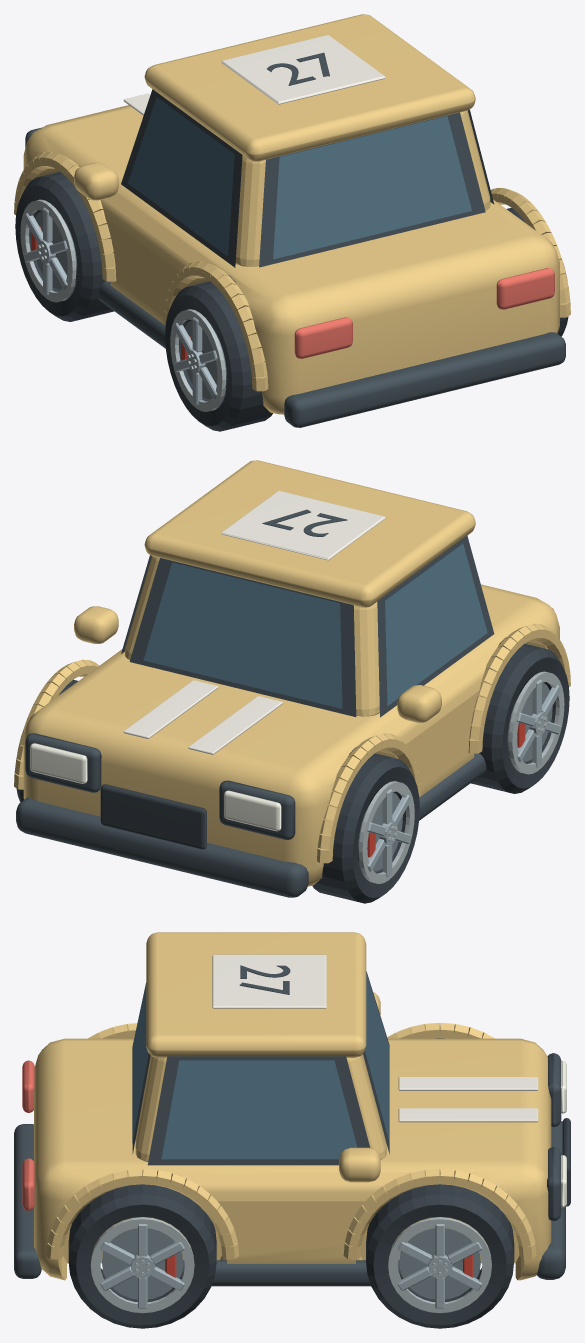
Rendered from car_agile.glb.
The picture shows the model from 3 angles, top to bottom: view 1: azimuth 30°, elevation 25°; view 2: azimuth 150°, elevation 25°; view 3: azimuth 270°, elevation 25°; orthographic projection.
Parts seen in each view (by area): view 1: Body.001, WheelMesh.006, WheelMesh.004; view 2: Body.001, WheelMesh.004, WheelMesh.006; view 3: Body.001, WheelMesh.007, WheelMesh.005.
Part boxes in pixels (left/top/right/bottom): Body.001: left=14, top=14, right=570, bottom=427; WheelMesh.006: left=165, top=276, right=272, bottom=431; WheelMesh.004: left=15, top=171, right=113, bottom=321; Body.001: left=14, top=460, right=570, bottom=897; WheelMesh.004: left=312, top=748, right=419, bottom=903; WheelMesh.006: left=471, top=639, right=569, bottom=793; Body.001: left=14, top=932, right=570, bottom=1286; WheelMesh.007: left=68, top=1184, right=216, bottom=1328; WheelMesh.005: left=366, top=1184, right=514, bottom=1328.
Bounding box in the file's own units: 2.64 × 1.94 × 3.61.
